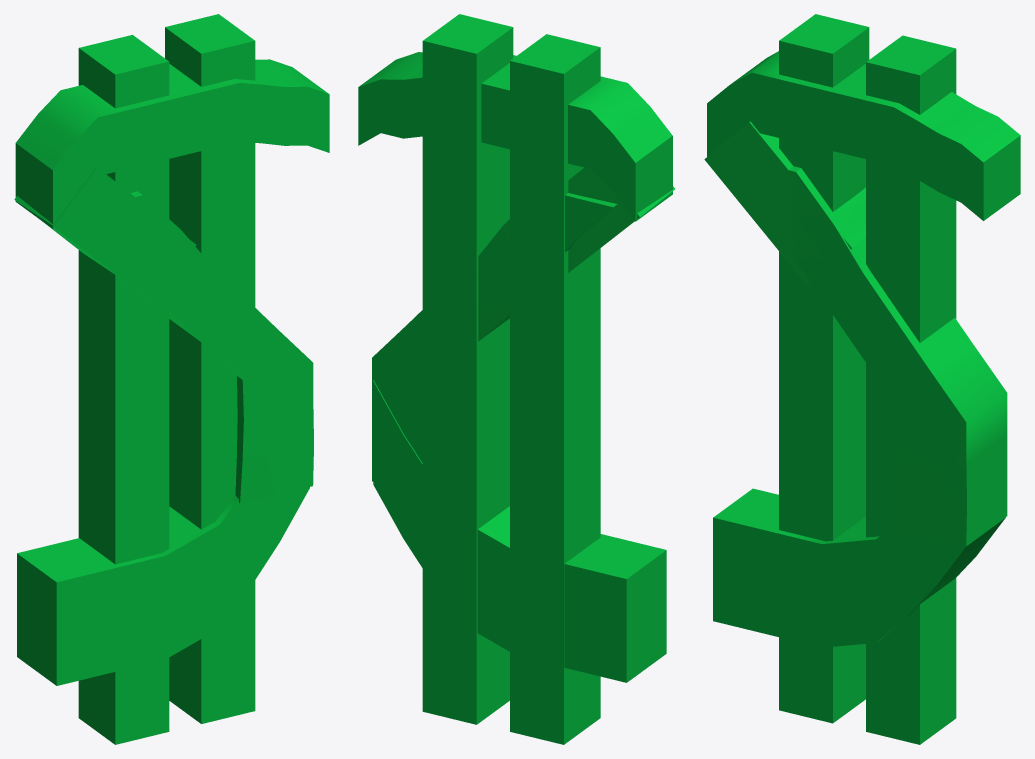
Rendered from money_shader.fbx.
The picture shows the model from 3 angles, left to right: view 1: azimuth 30°, elevation 25°; view 2: azimuth 150°, elevation 25°; view 3: azimuth 330°, elevation 25°; orthographic projection.
Visible parts, largest first — view 1: pCube9; view 2: pCube9; view 3: pCube9.
Boxes of the visible parts, x1,y1,x2,y2 form: pCube9: (14,14,329,744); pCube9: (358,14,674,744); pCube9: (704,14,1020,744).
Size of the model in its own units: 1.98 by 4.54 by 0.5399.
